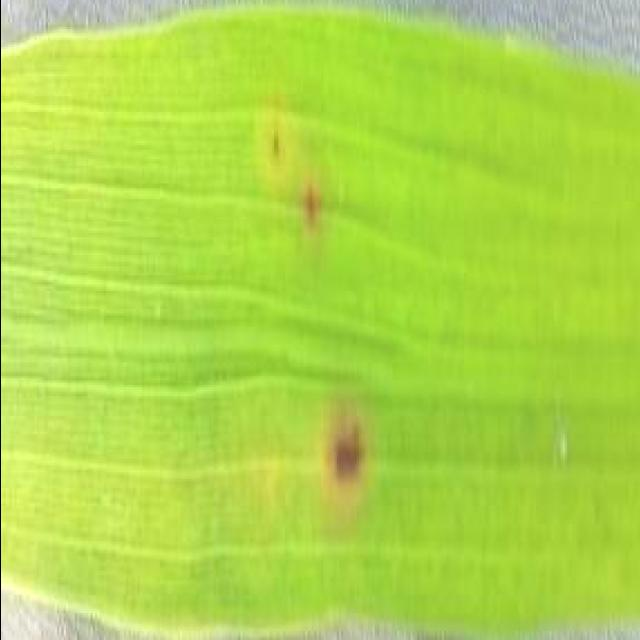Brown_Spot: (304, 396, 387, 496), (244, 96, 298, 186), (284, 177, 334, 253)
